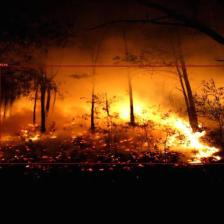fire: (0, 66, 224, 164)
